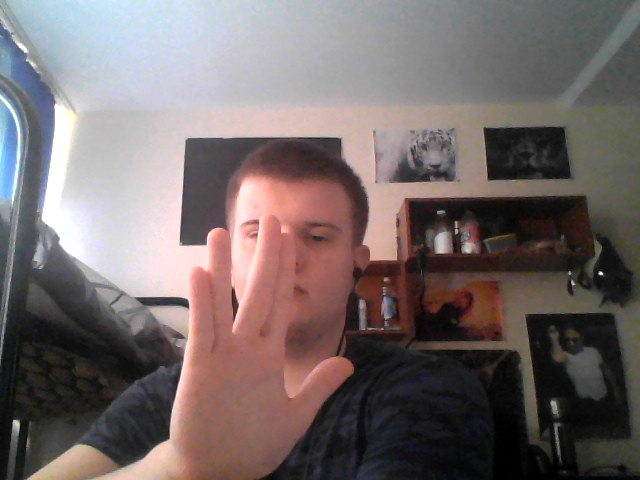peace: (168, 214, 356, 475)
